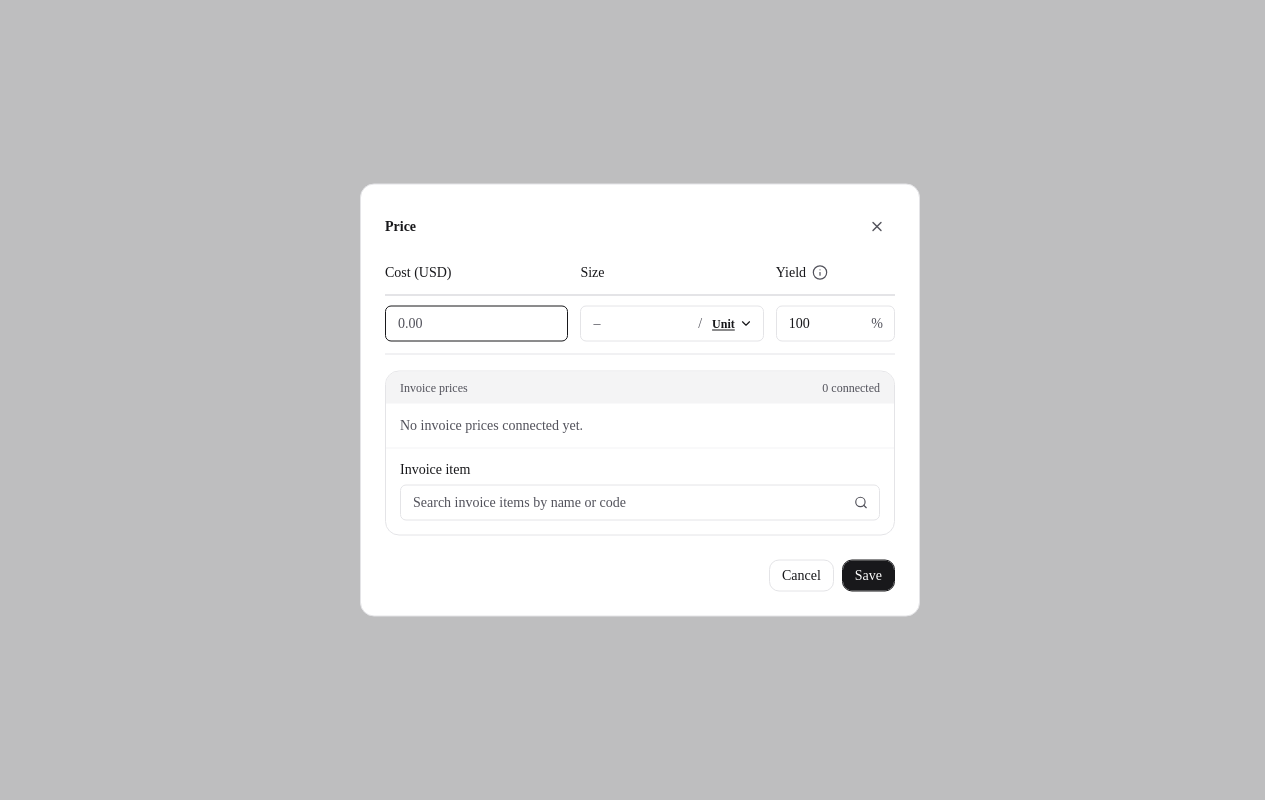
Test: connecting an invoice line without a unit price › reads a container from its printed pack text
Step 1. Type "carrots" into the dropdown labelled "Invoice item" → x=640, y=502, box [400,484,880,520]
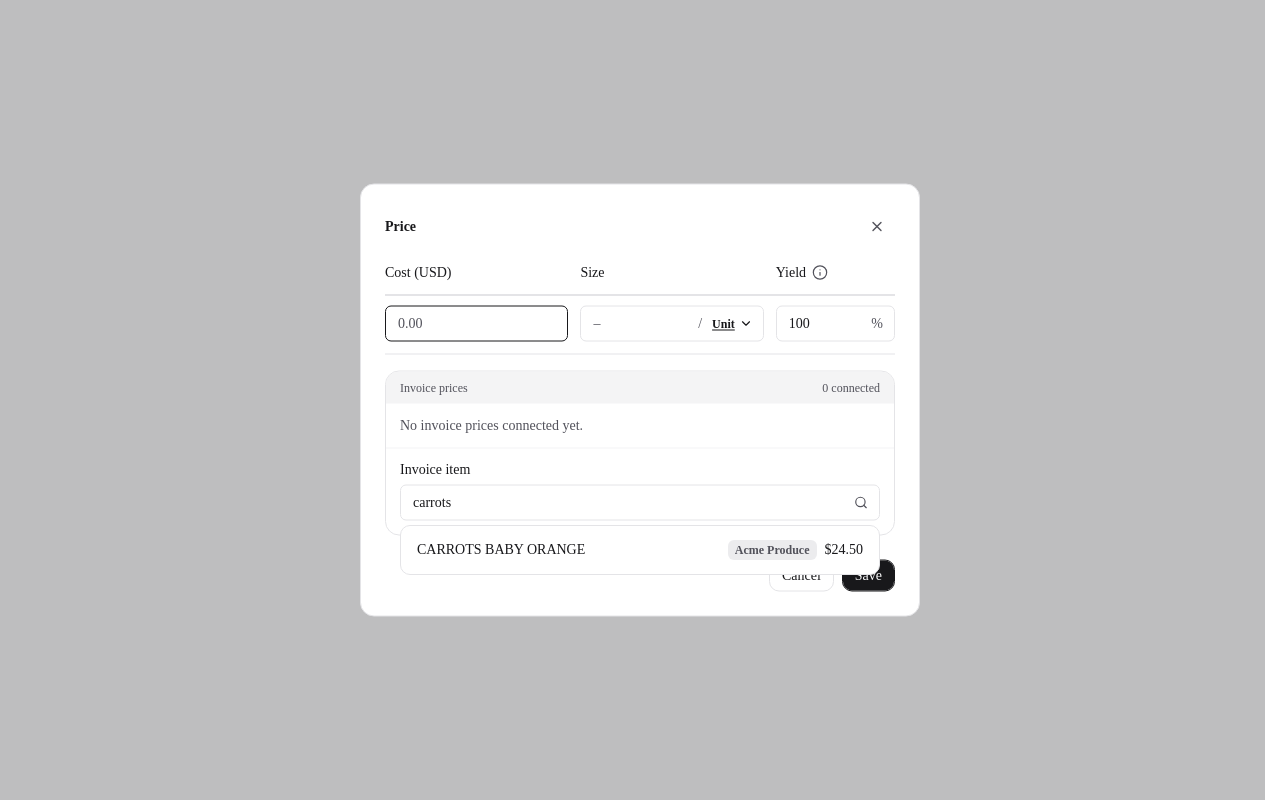
Step 2. Click the option "CARROTS BABY ORANGE Acme Produce $24.50" → x=501, y=550, box [407,532,873,568]
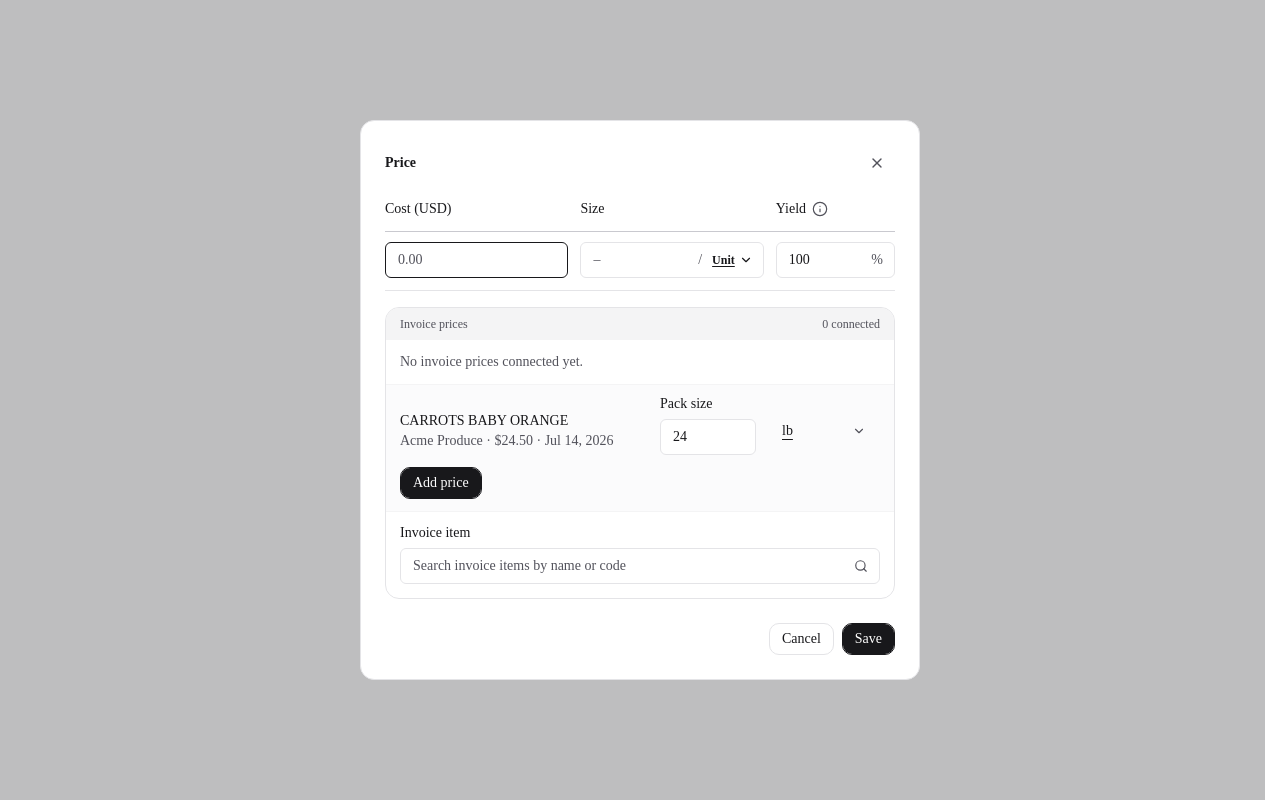
expect the field labelled "Pack size" holds "24": met, box [660,419,756,455]
expect the button with aria-label "Pack unit" reads "lb": met, box [768,407,880,455]
